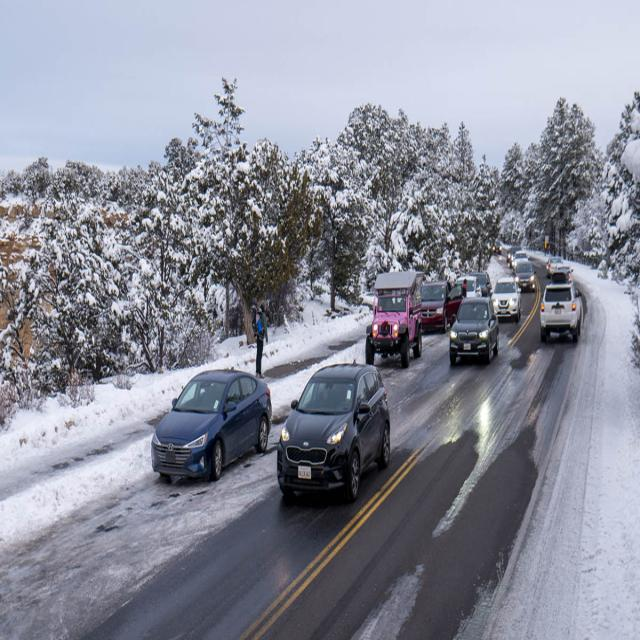Vehicle: (128, 365, 272, 484), (281, 356, 391, 504), (364, 264, 424, 354), (444, 298, 514, 372), (540, 273, 582, 349), (428, 269, 446, 338), (496, 265, 518, 312), (519, 252, 532, 286)
